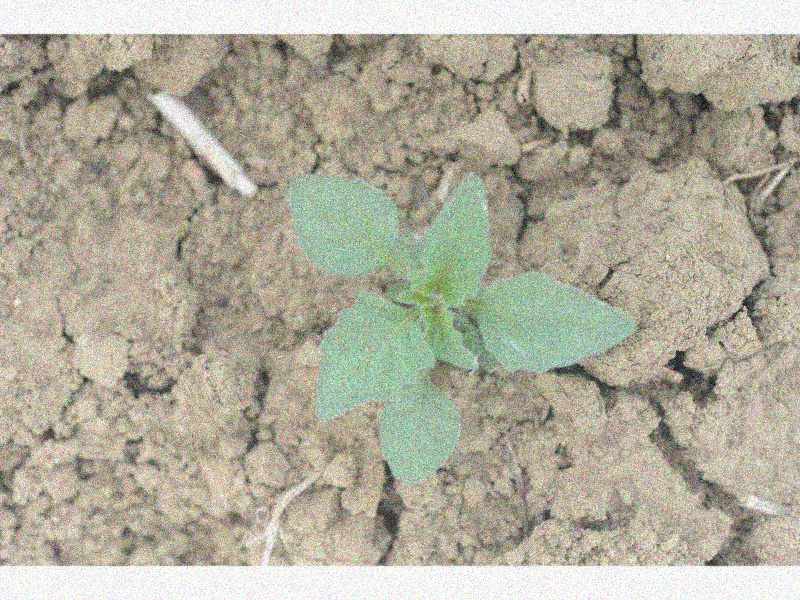nightshade: (287, 170, 635, 483)
